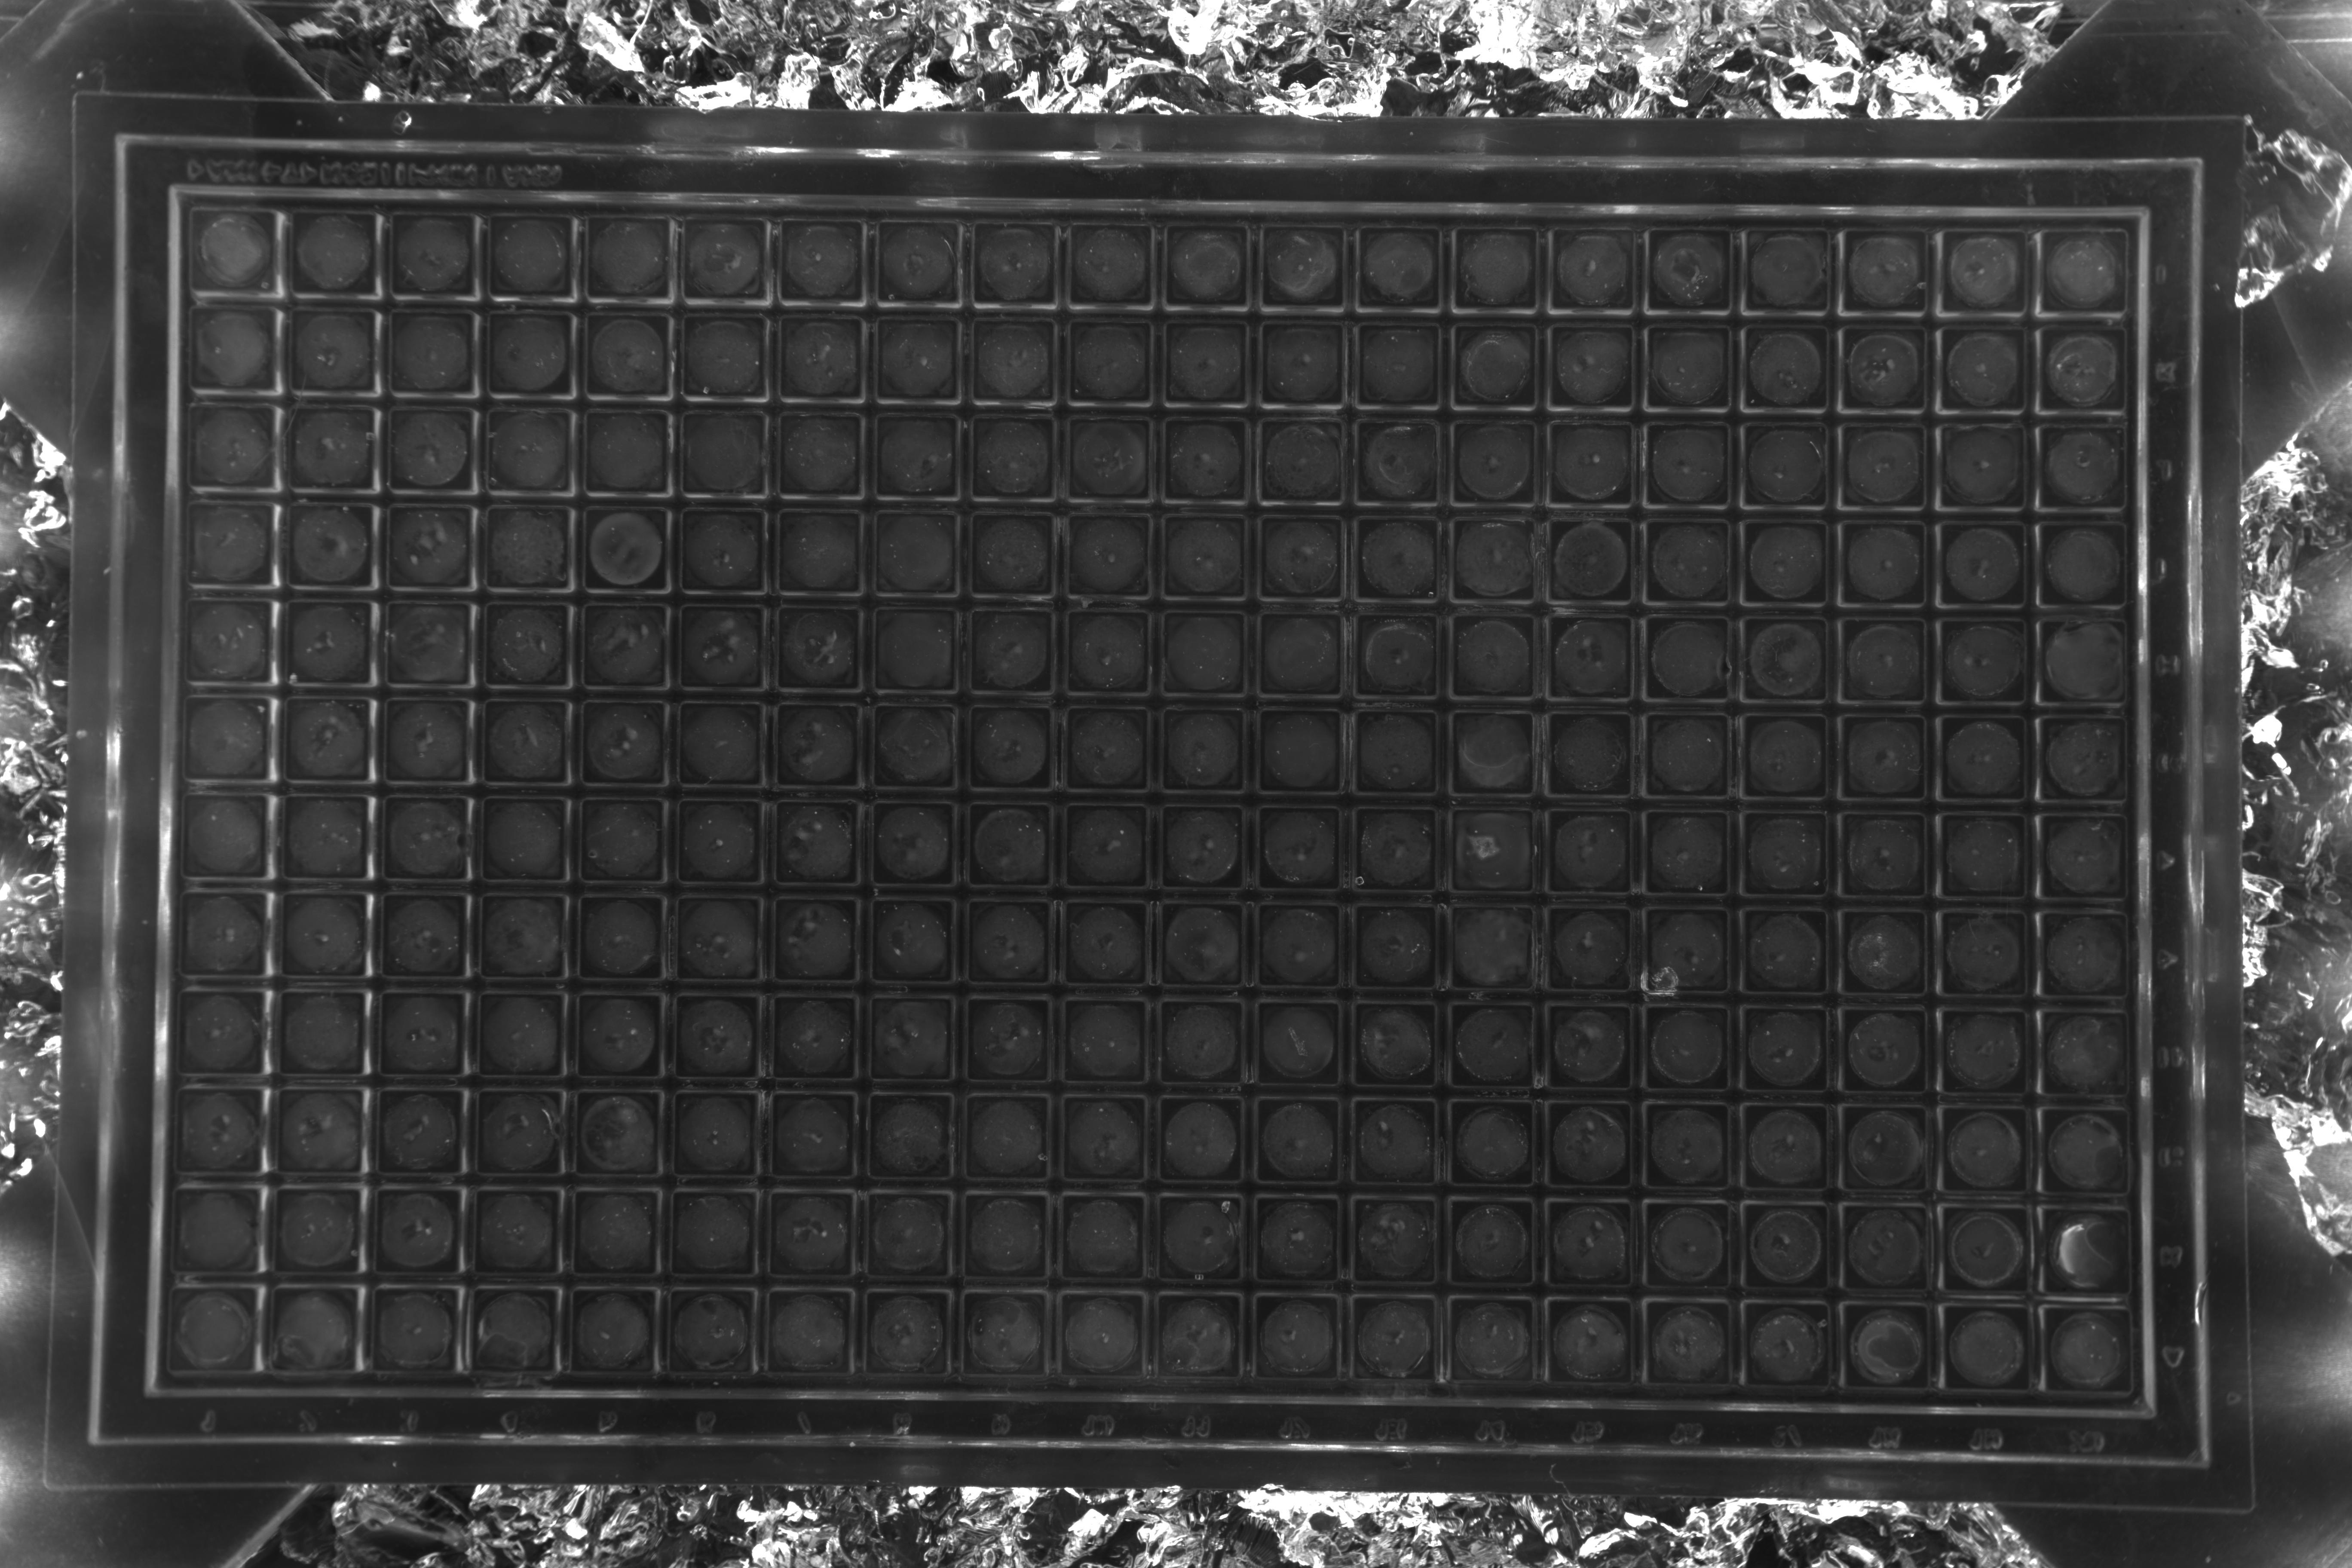WM_well: (1862, 1052, 1951, 1139), (191, 1342, 278, 1430), (303, 555, 390, 642), (595, 751, 682, 838), (595, 266, 682, 353), (1080, 269, 1167, 357), (1080, 656, 1167, 744), (1176, 754, 1263, 842), (1272, 560, 1360, 647), (1274, 850, 1361, 938), (1370, 754, 1458, 842), (1370, 1046, 1458, 1134), (1468, 1046, 1556, 1134), (1468, 1144, 1556, 1232), (1563, 464, 1650, 551), (1564, 656, 1652, 744), (1759, 366, 1846, 453), (1764, 1050, 1851, 1137), (1766, 1347, 1853, 1435), (1858, 462, 1946, 549), (1860, 756, 1948, 843), (1965, 1351, 2053, 1438), (2056, 464, 2144, 551), (2058, 658, 2145, 745)
